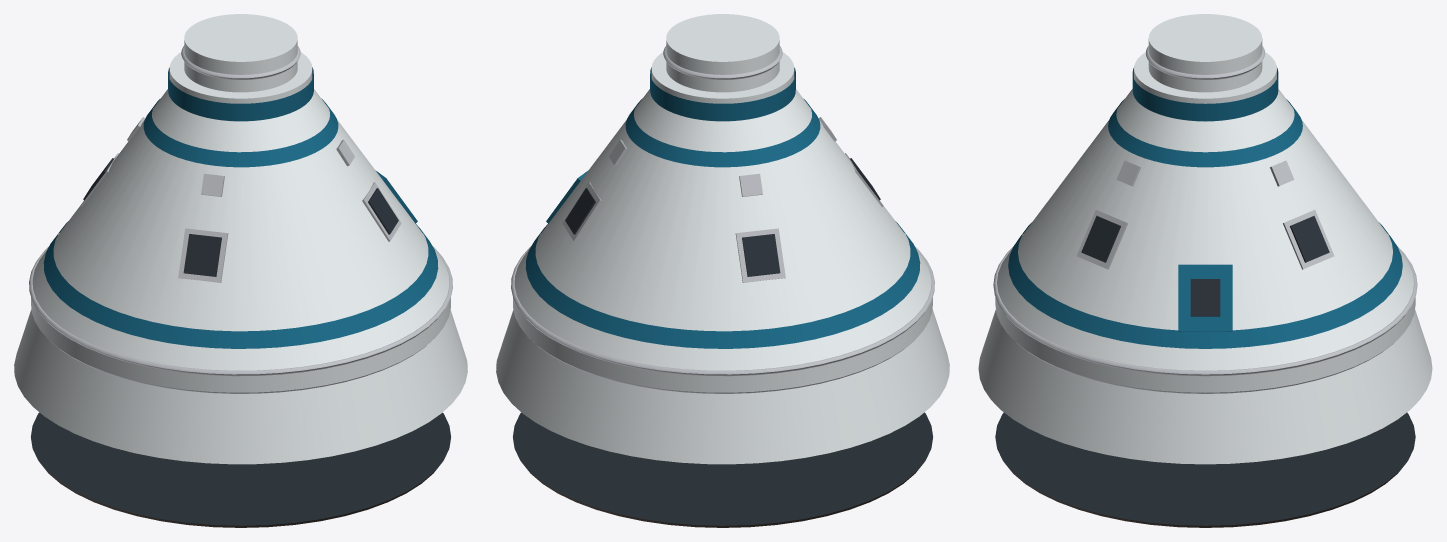
The model's file is tps_avcoat_ablator.glb.
The picture shows the model from 3 angles, left to right: view 1: azimuth 30°, elevation 25°; view 2: azimuth 150°, elevation 25°; view 3: azimuth 270°, elevation 25°; orthographic projection.
Visible parts, largest first — view 1: tps_avcoat_ablator_mesh; view 2: tps_avcoat_ablator_mesh; view 3: tps_avcoat_ablator_mesh.
Part boxes in pixels (x1,y1,x2,y2): tps_avcoat_ablator_mesh: (14, 14, 467, 527); tps_avcoat_ablator_mesh: (496, 14, 949, 527); tps_avcoat_ablator_mesh: (978, 14, 1432, 527).
Bounding box in the file's own units: 5.4 × 5.8 × 5.4.
